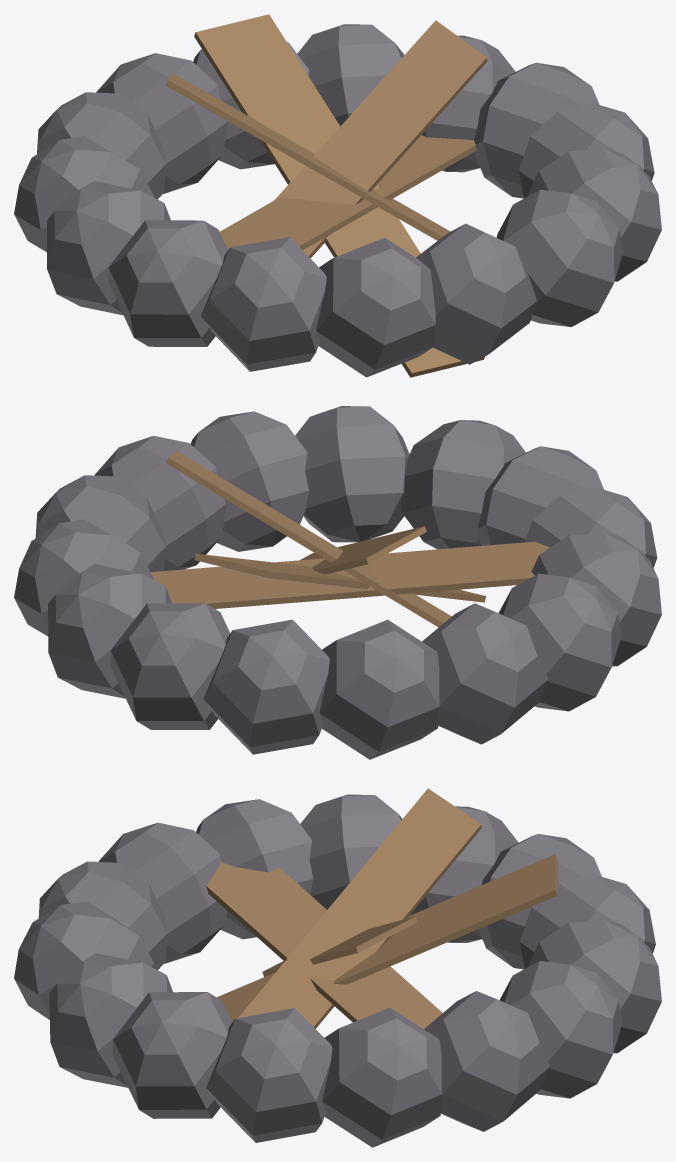
Rendered from firepit.fbx.
3 renders of one model, top to bottom at view 1: azimuth 30°, elevation 25°; view 2: azimuth 150°, elevation 25°; view 3: azimuth 270°, elevation 25°, orthographic.
Visible parts, largest first — view 1: firepit, firewood; view 2: firepit, firewood; view 3: firepit, firewood.
Part boxes in pixels (left/top/right/bottom): firepit: left=14, top=24, right=661, bottom=377; firewood: left=165, top=14, right=487, bottom=377; firepit: left=14, top=406, right=661, bottom=759; firewood: left=151, top=451, right=549, bottom=627; firepit: left=14, top=794, right=661, bottom=1147; firewood: left=206, top=788, right=557, bottom=1028.
Bounding box in the file's own units: 1.33 × 0.4734 × 1.33.
